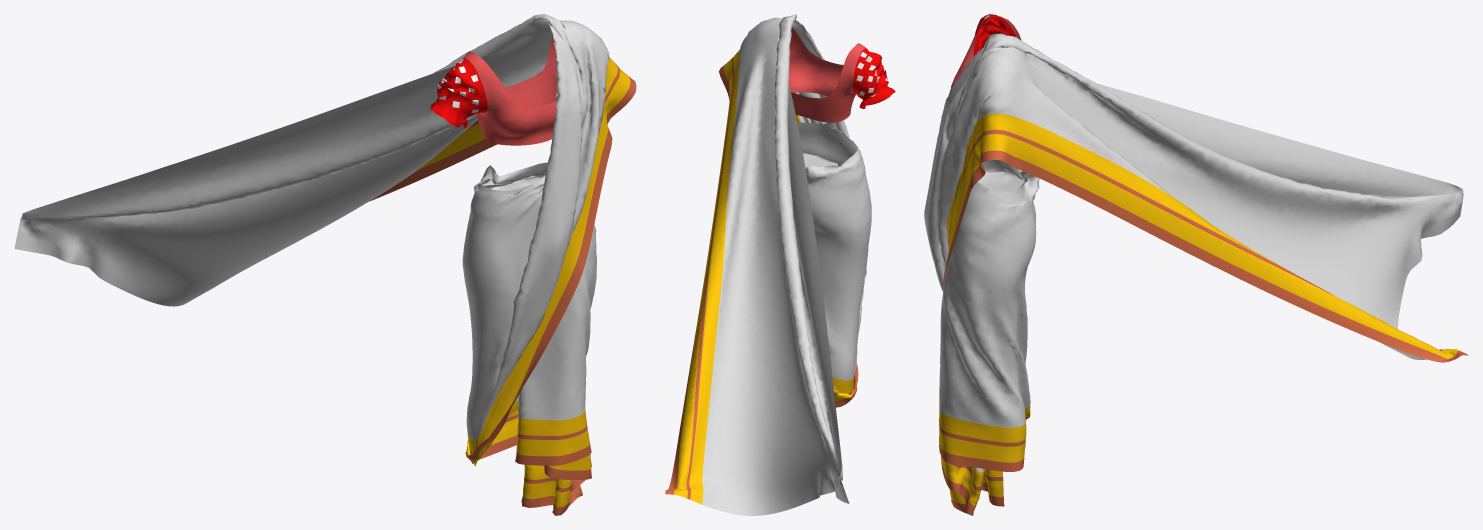
The model's file is traditional_saree.glb.
The picture shows the model from 3 angles, left to right: view 1: azimuth 30°, elevation 25°; view 2: azimuth 150°, elevation 25°; view 3: azimuth 270°, elevation 25°; orthographic projection. The views are drawn at different scales.
Visible parts, largest first — view 1: test 3; view 2: test 3; view 3: test 3.
Boxes of the visible parts, x1,y1,x2,y2 form: test 3: [14, 14, 636, 515]; test 3: [665, 14, 895, 515]; test 3: [924, 14, 1468, 515].
Size of the model in its own units: 1.74 by 2.07 by 2.14.
